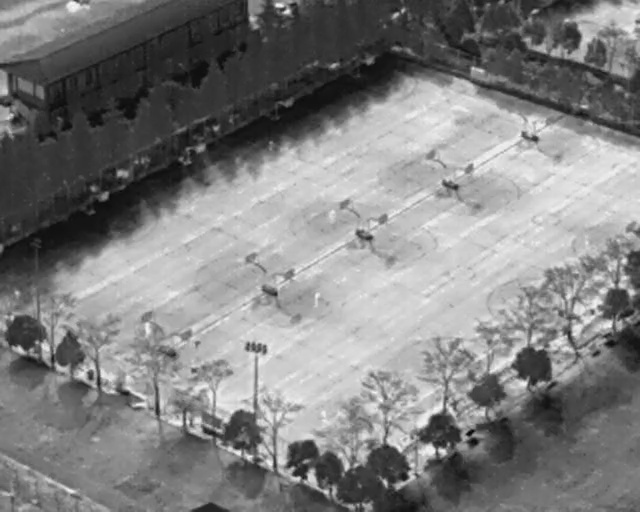Person: (143, 319, 150, 338), (320, 408, 328, 424), (189, 361, 197, 377), (329, 207, 336, 225), (314, 290, 320, 310), (13, 288, 21, 303), (267, 138, 274, 153)
